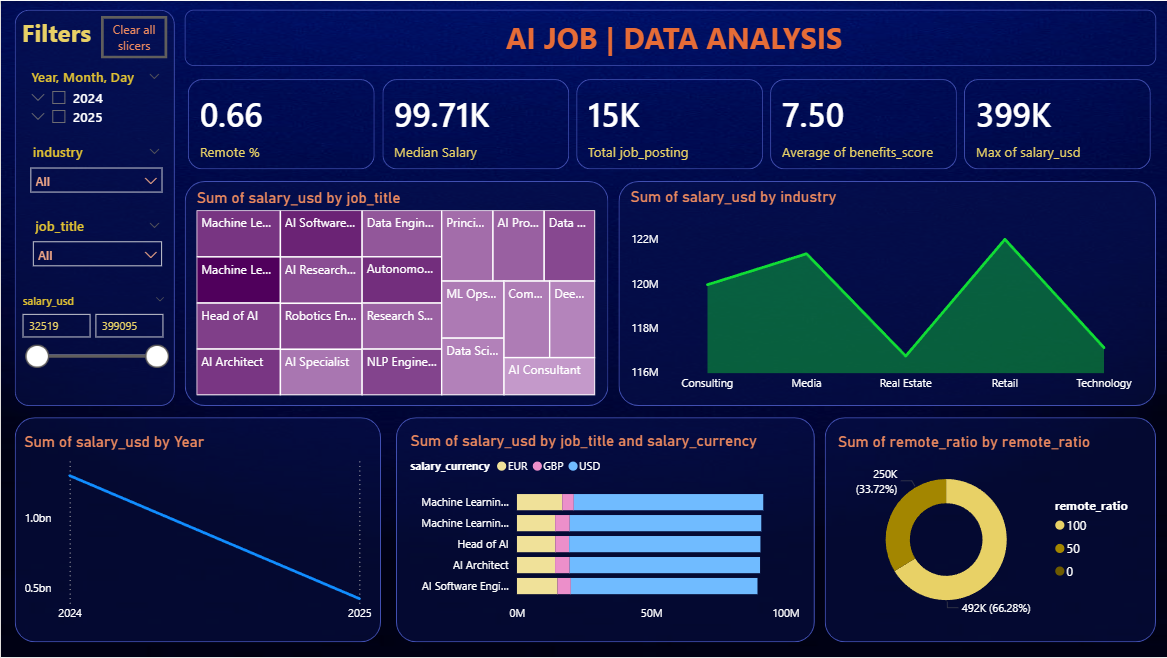

Layout of this report page (visuals, bound fields, positions):
{"tool":"powerbi","page":{"name":"Dashboard","canvas":[1280,720],"ordinal":0},"visuals":[{"type":"shape","box":[15.1,9.6,175.6,435],"z":0},{"type":"slicer","fields":{"Values":["ai_job_dataset.industry"]},"box":[21.8,151.6,165,71.4],"z":0,"group":"g1"},{"type":"slicer","fields":{"Values":["ai_job_dataset.posting_date.Variation.Date Hierarchy.Year","ai_job_dataset.posting_date.Variation.Date Hierarchy.Month","ai_job_dataset.posting_date.Variation.Date Hierarchy.Day"]},"box":[20.5,69.2,166.3,75.5],"z":1000,"group":"g1"},{"type":"shape","box":[677.9,197.6,590.1,247],"z":1000},{"type":"textbox","box":[17.9,11.5,97.4,57.6],"z":2000,"group":"g1"},{"type":"shape","box":[201.7,197.6,465.2,247],"z":2000},{"type":"slicer","fields":{"Values":["ai_job_dataset.job_title"]},"box":[24.4,232.5,162.4,79.6],"z":3000,"group":"g1"},{"type":"shape","box":[15.1,456.9,402.1,247],"z":3000},{"type":"slicer","title":"Salary","fields":{"Values":["ai_job_dataset.salary_usd"]},"box":[10.4,316.8,181.1,119.4],"z":4000,"group":"g1"},{"type":"shape","box":[904.3,456.9,363.6,247],"z":4000},{"type":"actionButton","box":[108.5,17.6,72.7,46.7],"z":5000,"group":"g1"},{"type":"shape","box":[433.6,456.9,459.7,247],"z":5000},{"type":"cardVisual","fields":{"Data":["ai_job_dataset.Remote %","ai_job_dataset.Median Salary","ai_job_dataset.Total job_posting","Avg(ai_job_dataset.benefits_score)","Max(ai_job_dataset.salary_usd)"]},"box":[200.3,81,1067.6,109.8],"z":6000},{"type":"lineChart","fields":{"Y":["Sum(ai_job_dataset.salary_usd)"],"Category":["ai_job_dataset.posting_date.Variation.Date Hierarchy.Year"]},"box":[20.6,473.4,391.1,216.8],"z":7000},{"type":"barChart","fields":{"Y":["Sum(ai_job_dataset.salary_usd)"],"Category":["ai_job_dataset.job_title"],"Series":["ai_job_dataset.salary_currency"]},"box":[444.6,472,437.7,218.2],"z":8000},{"type":"areaChart","fields":{"Y":["Sum(ai_job_dataset.salary_usd)"],"Category":["ai_job_dataset.industry"]},"box":[686.1,204.5,573.6,233.3],"z":9000},{"type":"donutChart","fields":{"Category":["ai_job_dataset.remote_ratio"],"Y":["Sum(ai_job_dataset.remote_ratio)"]},"box":[913.9,473.4,345.8,216.8],"z":10000},{"type":"treemap","fields":{"Group":["ai_job_dataset.job_title"],"Values":["Sum(ai_job_dataset.salary_usd)"]},"box":[209.9,205.8,447.3,231.9],"z":11000},{"type":"group","id":"g1","title":"Group 2","box":[10.4,11.5,181.1,424.7],"z":12000},{"type":"textbox","box":[201.7,9.6,1066.2,61.7],"z":13000}]}

Visuals, with their boxes in screenshot pixels (x1, y1, x2, y2), scaled from the page's 1280x720 canvas onto the 1167x658 screenshot:
shape: bbox=[14, 9, 174, 406]
slicer - ai_job_dataset.industry: bbox=[20, 139, 170, 204]
slicer - ai_job_dataset.posting_date.Variation.Date Hierarchy.Year x ai_job_dataset.posting_date.Variation.Date Hierarchy.Month: bbox=[19, 63, 170, 132]
shape: bbox=[618, 181, 1156, 406]
textbox: bbox=[16, 11, 105, 63]
shape: bbox=[184, 181, 608, 406]
slicer - ai_job_dataset.job_title: bbox=[22, 212, 170, 285]
shape: bbox=[14, 418, 380, 643]
"Salary" slicer: bbox=[9, 290, 175, 399]
shape: bbox=[824, 418, 1156, 643]
actionButton: bbox=[99, 16, 165, 59]
shape: bbox=[395, 418, 814, 643]
cardVisual - ai_job_dataset.Remote % x ai_job_dataset.Median Salary: bbox=[183, 74, 1156, 174]
lineChart - Sum(ai_job_dataset.salary_usd) x ai_job_dataset.posting_date.Variation.Date Hierarchy.Year: bbox=[19, 433, 375, 631]
barChart - Sum(ai_job_dataset.salary_usd) x ai_job_dataset.job_title: bbox=[405, 431, 804, 631]
areaChart - Sum(ai_job_dataset.salary_usd) x ai_job_dataset.industry: bbox=[626, 187, 1148, 400]
donutChart - ai_job_dataset.remote_ratio x Sum(ai_job_dataset.remote_ratio): bbox=[833, 433, 1148, 631]
treemap - ai_job_dataset.job_title x Sum(ai_job_dataset.salary_usd): bbox=[191, 188, 599, 400]
"Group 2" group: bbox=[9, 11, 175, 399]
textbox: bbox=[184, 9, 1156, 65]
